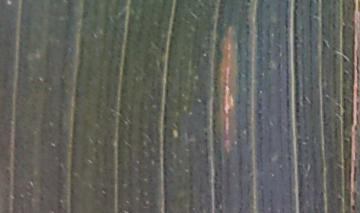tarspot: (351, 163, 358, 184), (351, 190, 358, 203), (350, 203, 356, 212)
